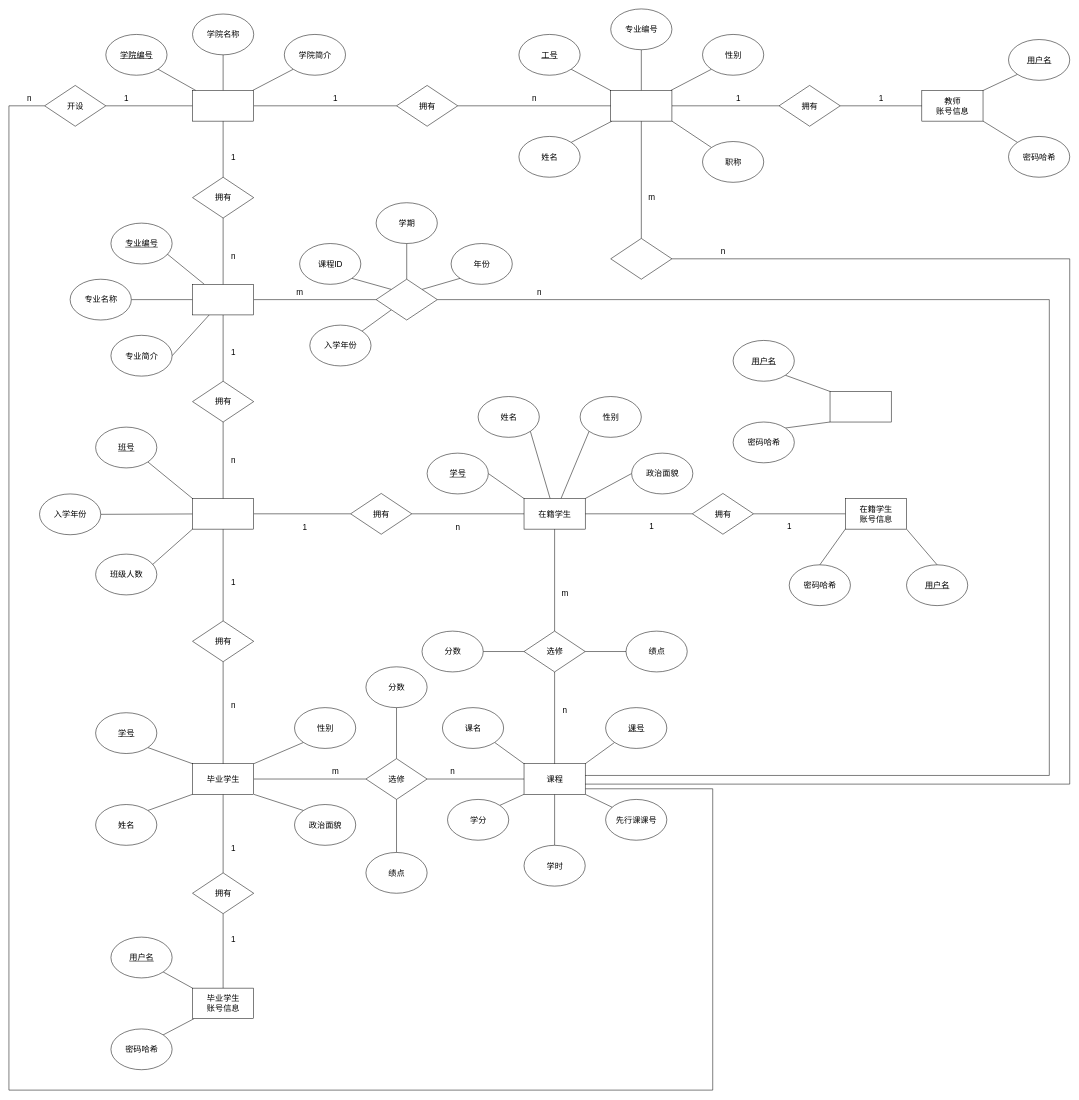
Some shapes in this 1079 by 1100 pixel diagram are drawn without their labels. The centre of each missing label's shape, as x and y in pixels:
"专业" goes at point 223,299.
"学院" goes at point 223,105.
"教务人员 账号信息" goes at point 860,406.
"教师" goes at point 641,105.
"教授" goes at point 641,258.
"班级" goes at point 223,513.
"课程计划" goes at point 406,299.
